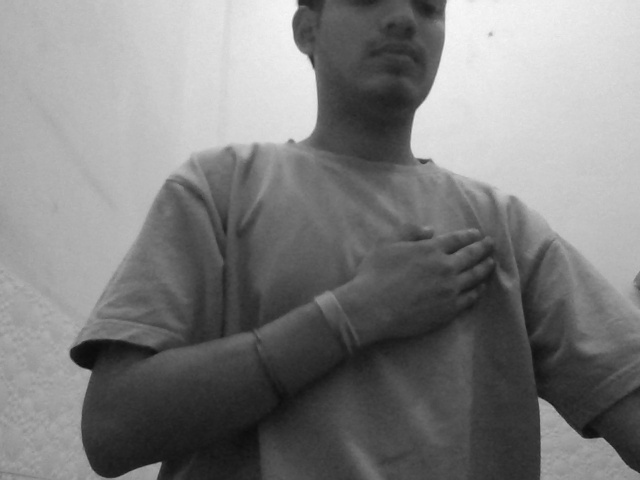Sorry: (309, 204, 556, 365)
